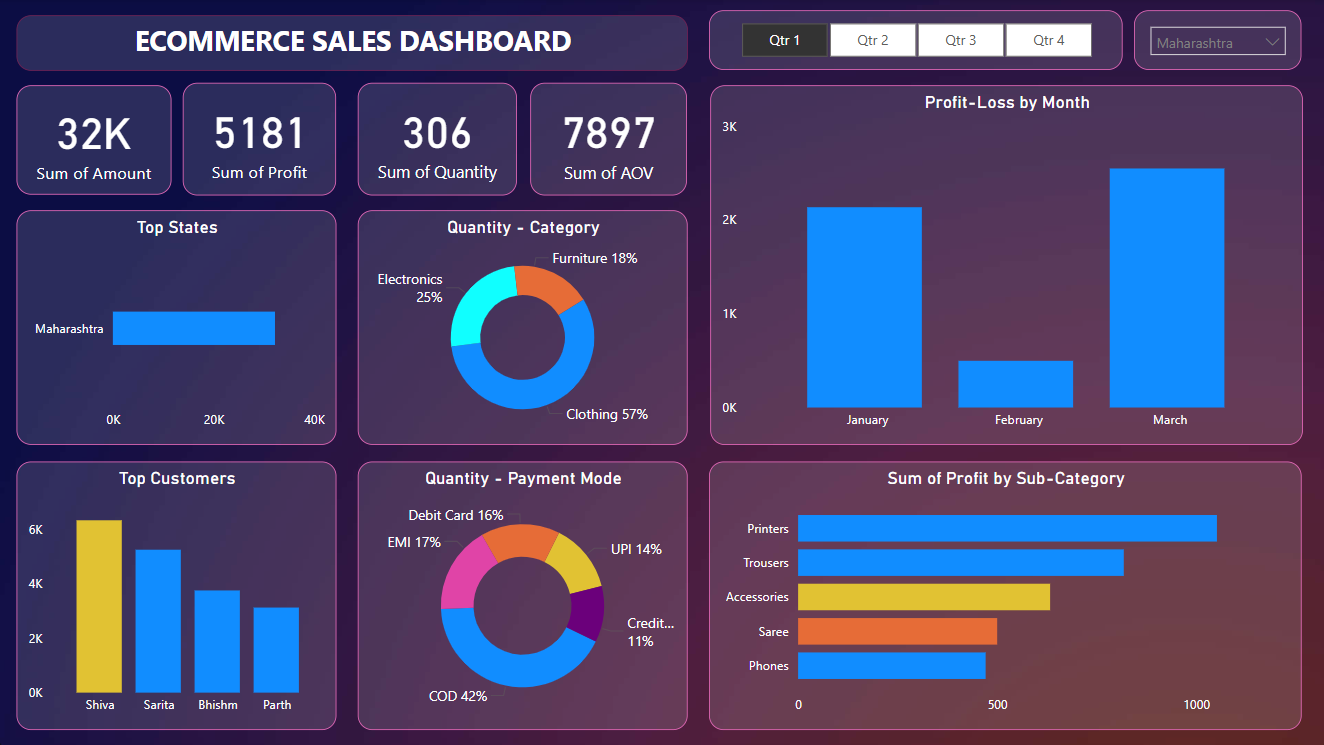

Layout of this report page (visuals, bound fields, positions):
{"tool":"powerbi","page":{"name":"Page 1","canvas":[1280,720],"ordinal":0},"visuals":[{"type":"textbox","title":"ECOMMERCE SALES DASHBOARD","box":[16.5,15.1,647.7,53.5],"z":0},{"type":"columnChart","title":"Profit-Loss by Month","fields":{"Y":["Sum(Details.Profit)"],"Category":["Orders.Order Date.Variation.Date Hierarchy.Month"]},"box":[686.1,83.7,572.2,347.2],"z":1000},{"type":"clusteredBarChart","fields":{"Category":["Details.Sub-Category"],"Y":["Sum(Details.Profit)"]},"box":[684.7,446,572.2,259.3],"z":2000},{"type":"donutChart","title":"Quantity - Category","fields":{"Y":["Sum(Details.Quantity)"],"Category":["Details.Category"]},"box":[345.8,204.5,318.4,226.4],"z":3000},{"type":"donutChart","title":"Quantity - Payment Mode","fields":{"Y":["Sum(Details.Quantity)"],"Category":["Details.PaymentMode"]},"box":[345.8,446,318.4,259.3],"z":4000},{"type":"card","fields":{"Values":["Sum(Details.Amount)"]},"box":[16.5,83.7,149.6,105.7],"z":5000},{"type":"card","fields":{"Values":["Sum(Details.Profit)"]},"box":[177,81,148.2,108.4],"z":6000},{"type":"card","fields":{"Values":["Sum(Details.Quantity)"]},"box":[345.8,81,153.7,108.4],"z":7000},{"type":"card","fields":{"Values":["Sum(Details.AOV)"]},"box":[513.2,81,150.9,108.4],"z":8000},{"type":"clusteredBarChart","title":"Top States","fields":{"Category":["Orders.State"],"Y":["Sum(Details.Amount)"]},"box":[16.5,204.5,308.7,226.4],"z":9000},{"type":"columnChart","title":"Top Customers","fields":{"Category":["Orders.CustomerName"],"Y":["Sum(Details.Amount)"]},"box":[16.5,446,308.7,259.3],"z":10000},{"type":"slicer","fields":{"Values":["Orders.Order Date.Variation.Date Hierarchy.Quarter"]},"box":[684.7,11,399.3,57.6],"z":10001},{"type":"slicer","fields":{"Values":["Orders.State"]},"box":[1095,11,161.9,57.6],"z":10002}]}

Visuals, with their boxes in screenshot pixels (x1, y1, x2, y2), scaled from the page's 1280x720 canvas onto the 1324x745 screenshot:
"ECOMMERCE SALES DASHBOARD" textbox: BBox(17, 16, 687, 71)
"Profit-Loss by Month" columnChart: BBox(710, 87, 1302, 446)
clusteredBarChart - Details.Sub-Category x Sum(Details.Profit): BBox(708, 461, 1300, 730)
"Quantity - Category" donutChart: BBox(358, 212, 687, 446)
"Quantity - Payment Mode" donutChart: BBox(358, 461, 687, 730)
card - Sum(Details.Amount): BBox(17, 87, 172, 196)
card - Sum(Details.Profit): BBox(183, 84, 336, 196)
card - Sum(Details.Quantity): BBox(358, 84, 517, 196)
card - Sum(Details.AOV): BBox(531, 84, 687, 196)
"Top States" clusteredBarChart: BBox(17, 212, 336, 446)
"Top Customers" columnChart: BBox(17, 461, 336, 730)
slicer - Orders.Order Date.Variation.Date Hierarchy.Quarter: BBox(708, 11, 1121, 71)
slicer - Orders.State: BBox(1133, 11, 1300, 71)
